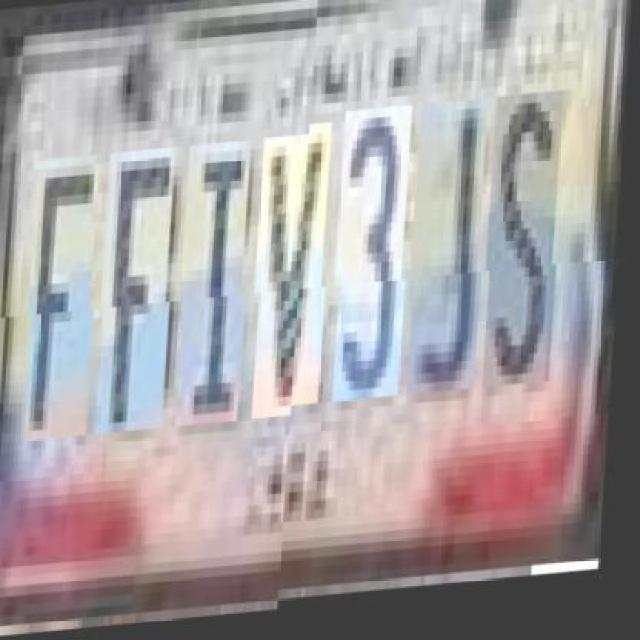3: (337, 123, 418, 420)
f: (102, 151, 182, 437), (30, 156, 107, 442)
i: (180, 144, 258, 430)
j: (412, 116, 496, 413)
s: (488, 110, 570, 408)
v: (258, 138, 338, 424)
